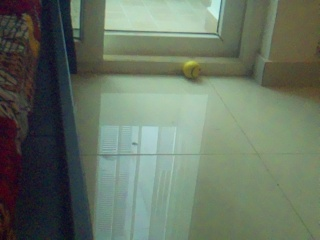ball: (182, 61, 200, 78)
